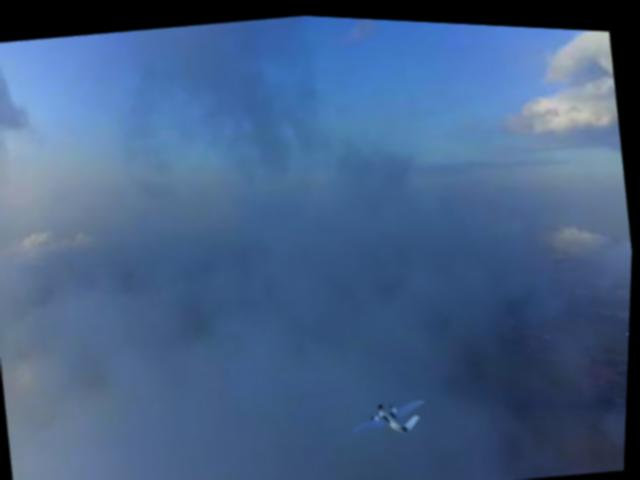uav: (349, 382, 434, 441)
